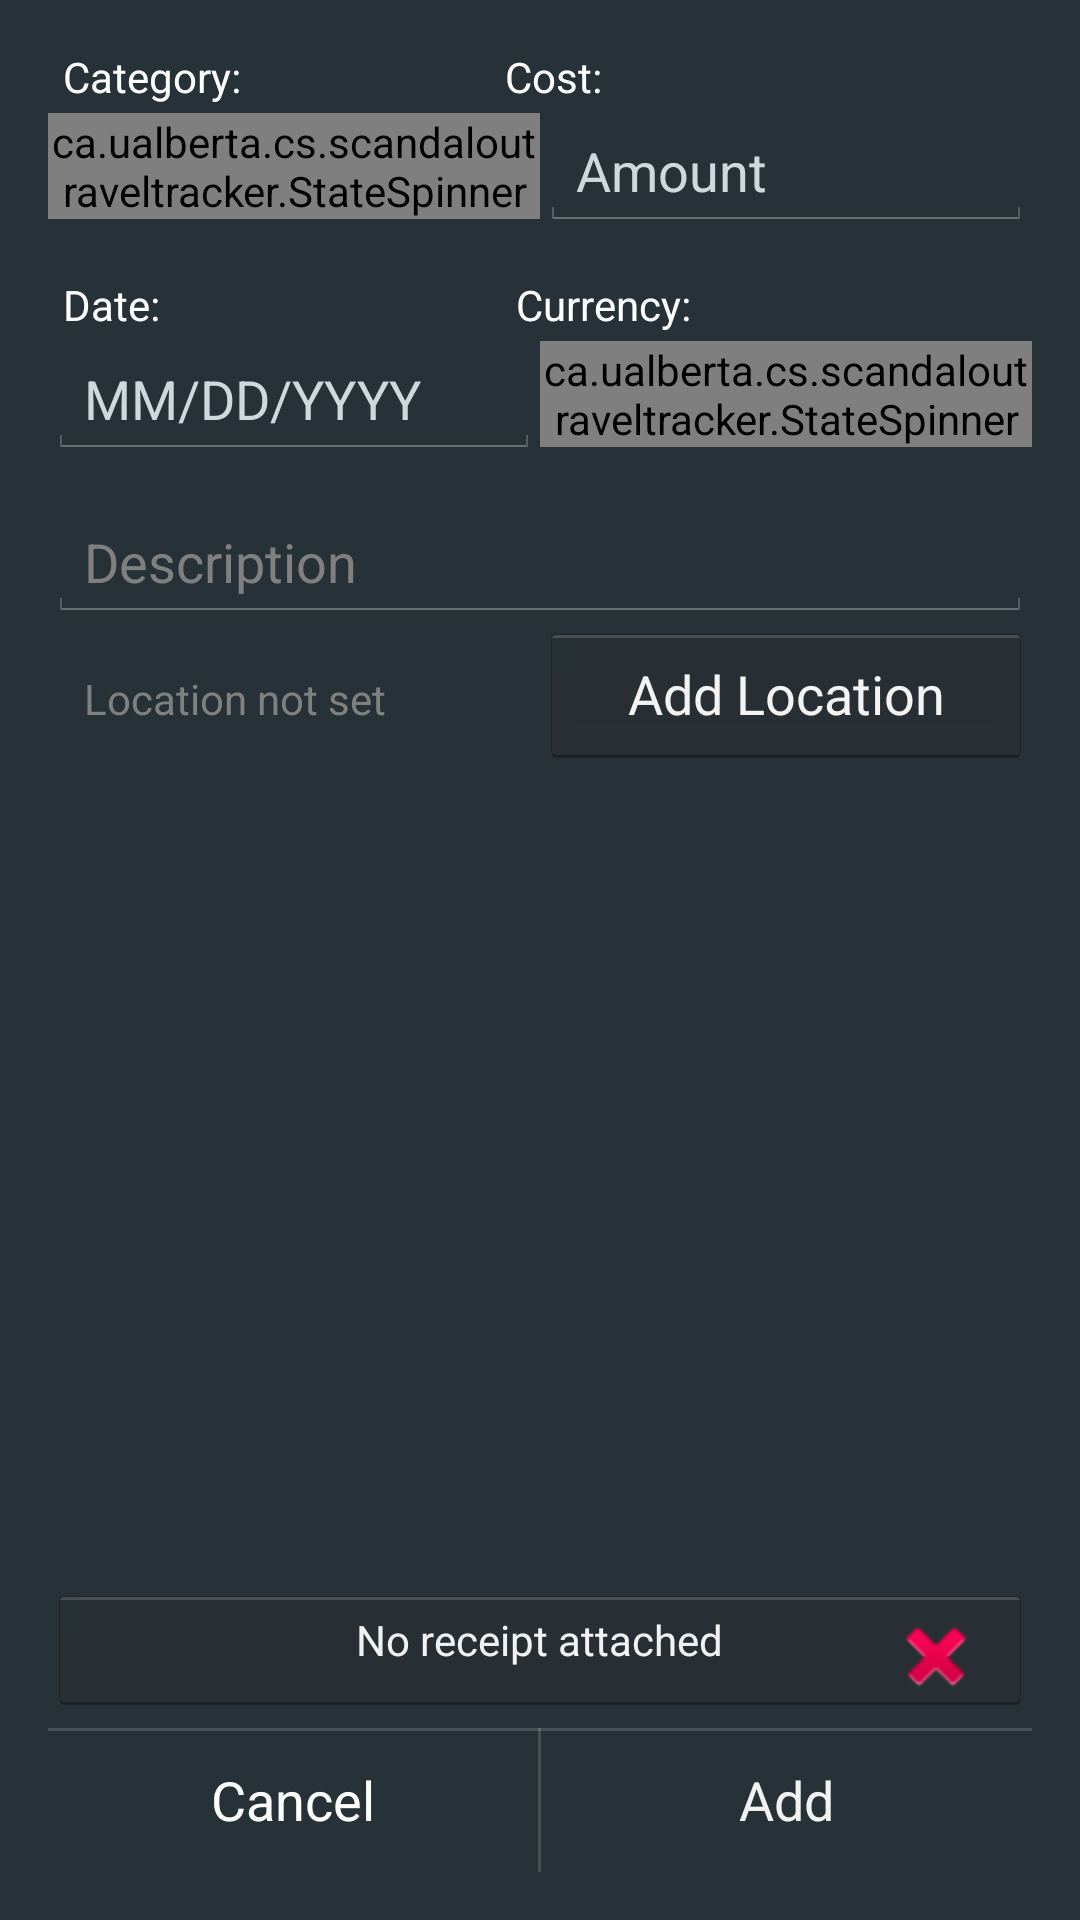

Point at icon controls on the screen. Image size 1080 x 1920, points as point (x, y).
delete: point (936, 1656)
